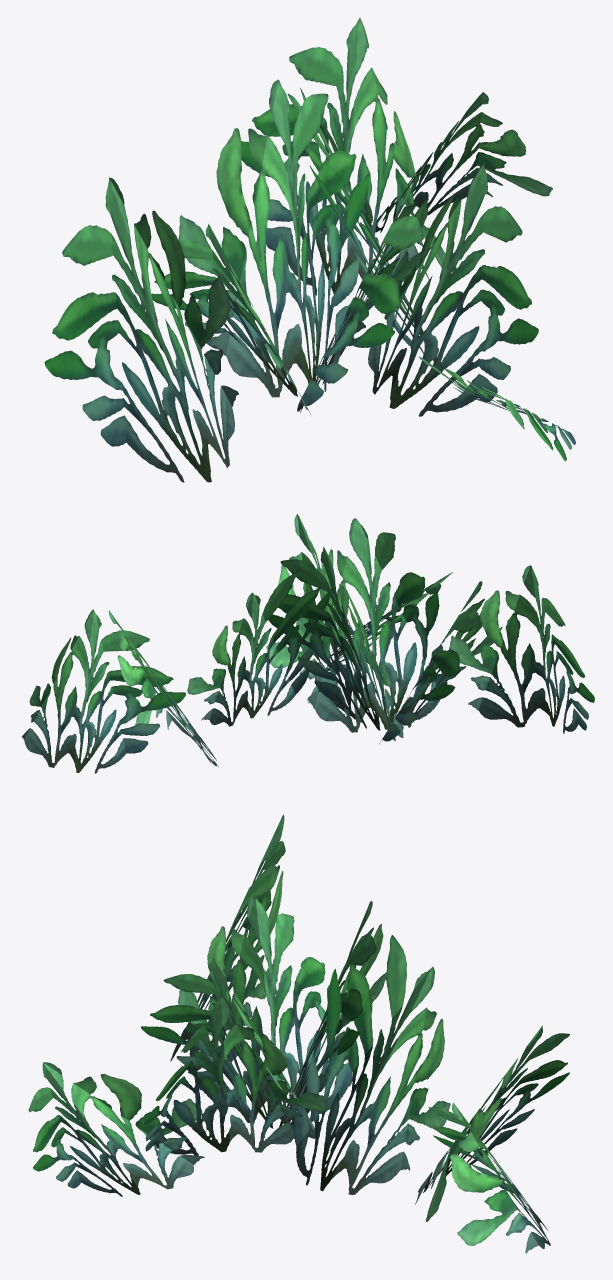
Rendered from Z01_cao_01.FBX.
The picture shows the model from 3 angles, top to bottom: view 1: azimuth 30°, elevation 25°; view 2: azimuth 150°, elevation 25°; view 3: azimuth 270°, elevation 25°; orthographic projection. The views are drawn at different scales.
Parts seen in each view (by area): view 1: 对象112; view 2: 对象112; view 3: 对象112.
Boxes of the visible parts, x1,y1,x2,y2 form: 对象112: [44, 17, 575, 482]; 对象112: [21, 514, 594, 773]; 对象112: [28, 815, 569, 1253].
Size of the model in its own units: 203 by 82.36 by 180.
